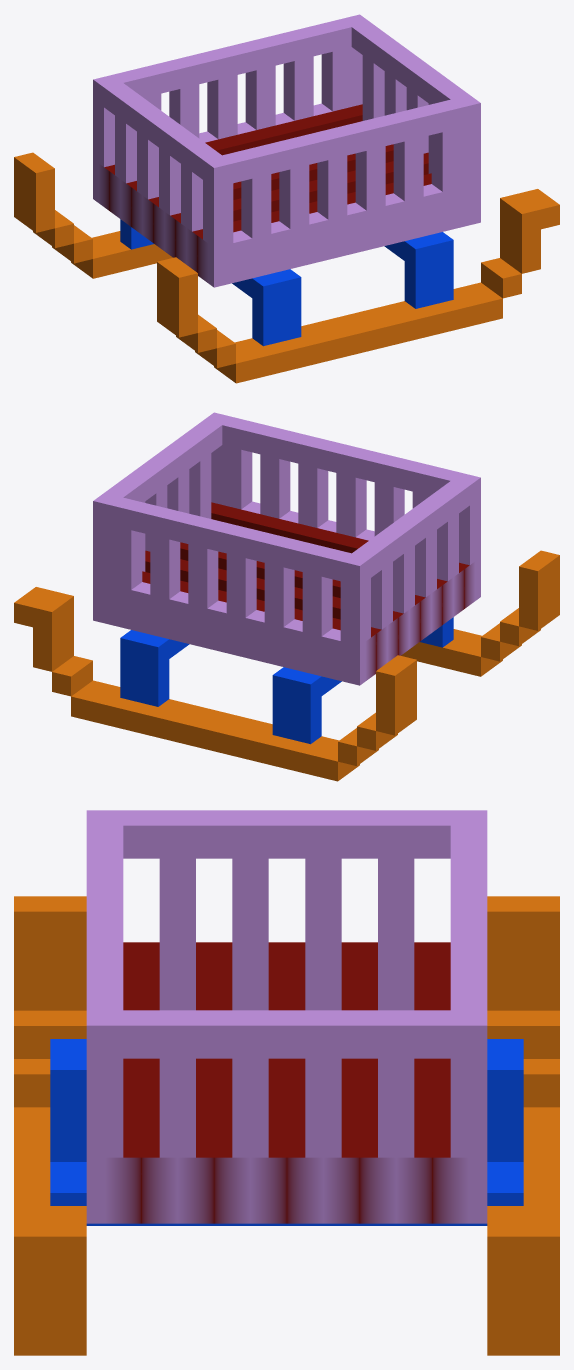
The model's file is Vehicle_24.fbx.
3 views of the same model, one above another, from view 1: azimuth 30°, elevation 25°; view 2: azimuth 150°, elevation 25°; view 3: azimuth 270°, elevation 25° (orthographic). The views are drawn at different scales.
Visible parts, largest first — view 1: Vehicle_24; view 2: Vehicle_24; view 3: Vehicle_24.
Boxes of the visible parts, <box> form: Vehicle_24: <box>14,14,559,383</box>; Vehicle_24: <box>14,412,559,781</box>; Vehicle_24: <box>14,810,559,1355</box>.
Size of the model in its own units: 20 by 10 by 15.
1 material, 1 textured.
